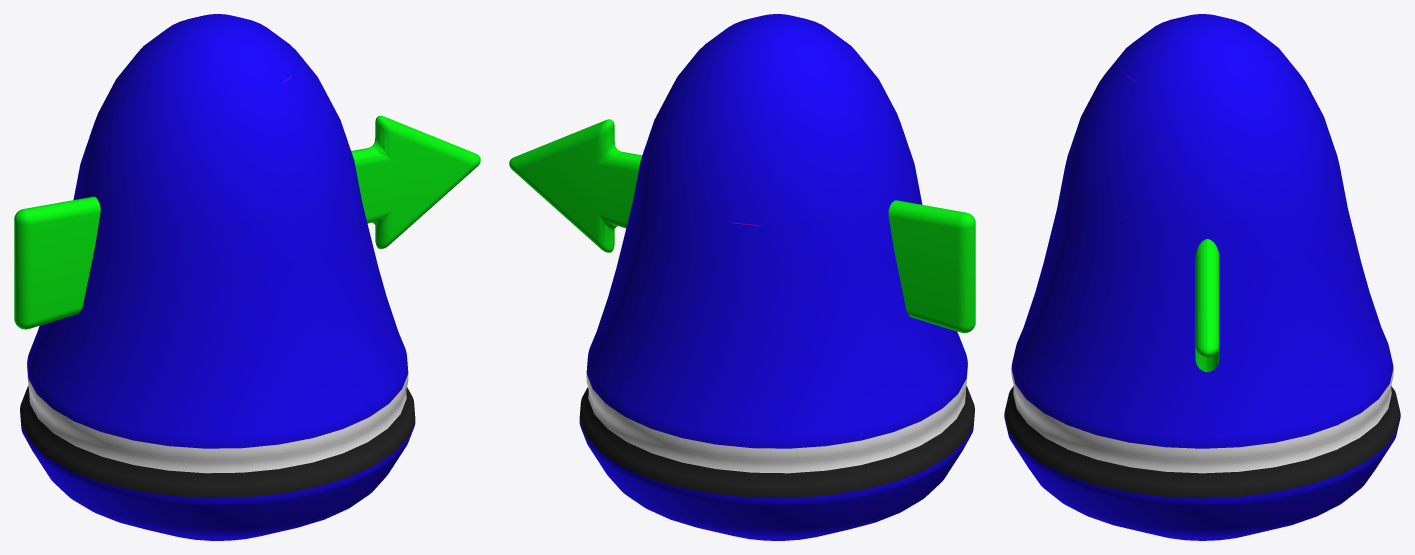
File: BoyaR.glb
3 views of the same model, side by side, from view 1: azimuth 30°, elevation 25°; view 2: azimuth 150°, elevation 25°; view 3: azimuth 270°, elevation 25° (orthographic).
Parts seen in each view (by area): view 1: BoyaR; view 2: BoyaR; view 3: BoyaR.
Boxes of the visible parts, <box> form: BoyaR: <box>14,14,480,540</box>; BoyaR: <box>509,14,975,540</box>; BoyaR: <box>1004,14,1400,540</box>.
Bounding box in the file's own units: 3.22 × 3.29 × 2.38.
1 material, 1 textured.
